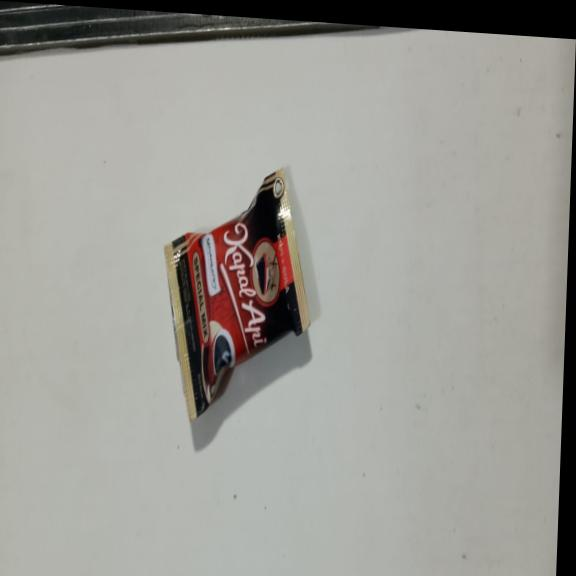Plastik: (157, 157, 317, 430)
